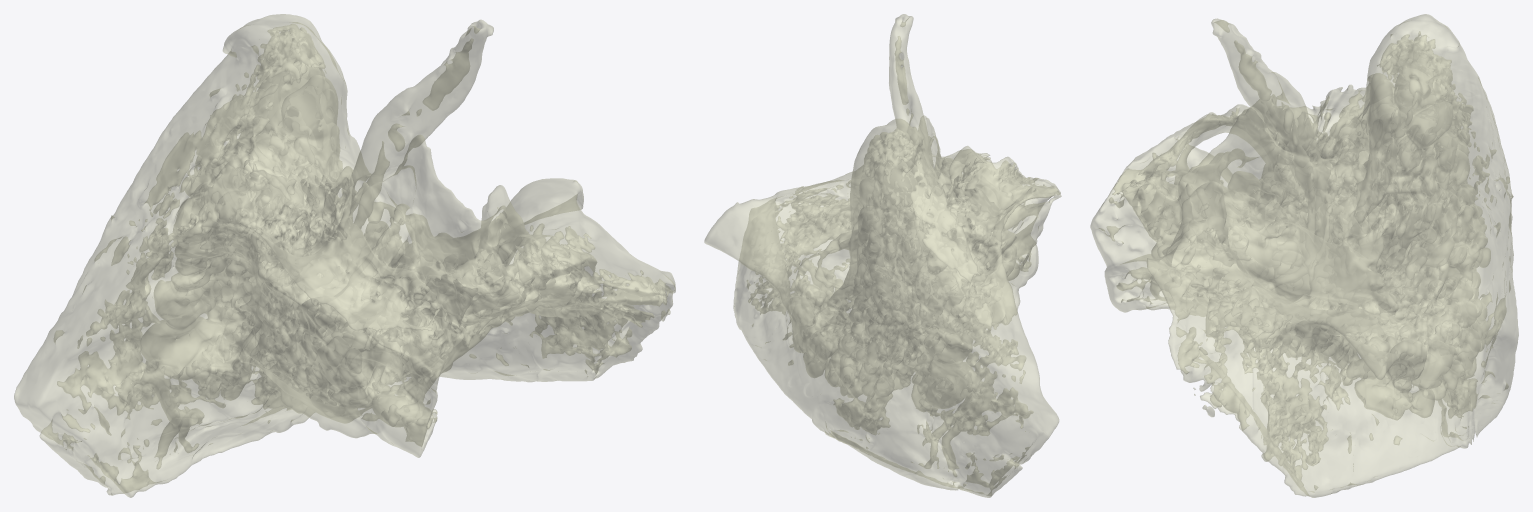
The model's file is bone.glb.
3 renders of one model, left to right at view 1: azimuth 30°, elevation 25°; view 2: azimuth 150°, elevation 25°; view 3: azimuth 270°, elevation 25°, orthographic. The views are drawn at different scales.
Parts seen in each view (by area): view 1: geometry_0; view 2: geometry_0; view 3: geometry_0.
Part boxes in pixels (x1,y1,x2,y2): geometry_0: [14, 14, 675, 497]; geometry_0: [704, 14, 1061, 497]; geometry_0: [1090, 14, 1518, 497].
Bounding box in the file's own units: 80.09 × 72.36 × 59.36.
